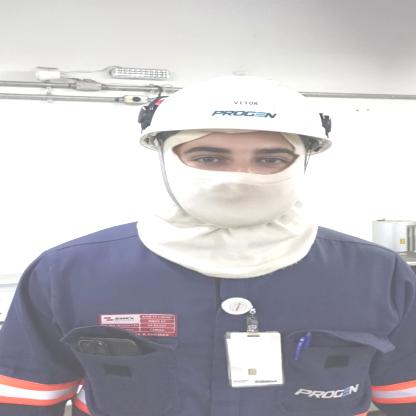Balaclava: (138, 133, 322, 279)
Capacete: (123, 73, 359, 149)
